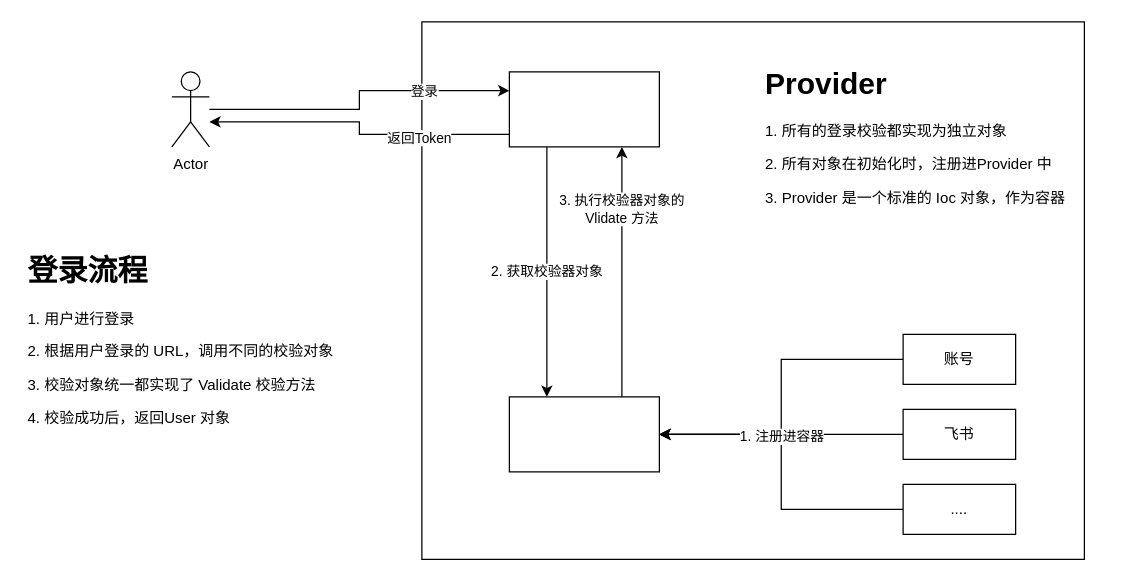
The diagram is 1143 pixels wide and 581 high, and some of its shapes have lost their labels. The shapes that lost their labels are listed below. From the top down, each one's centre as x and y in pixels, then its label:
At (583,109): "Token 模块".
At (583,434): "Provider 模块".
